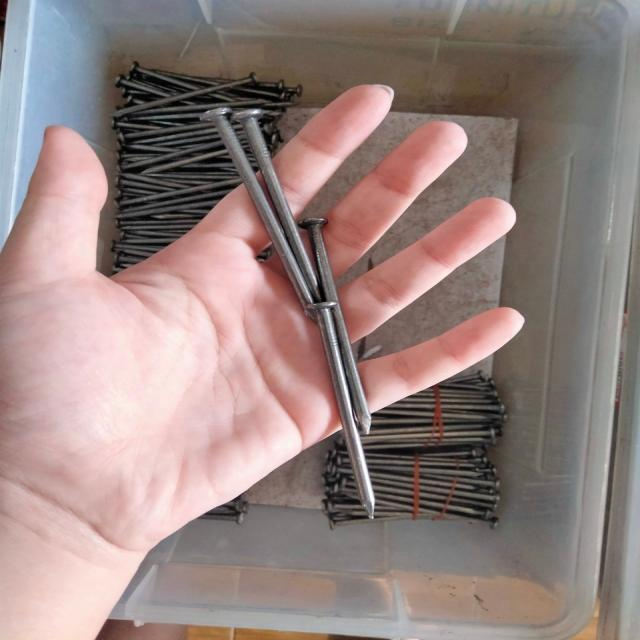3x8 nail: (286, 210, 428, 526), (187, 101, 347, 329)
